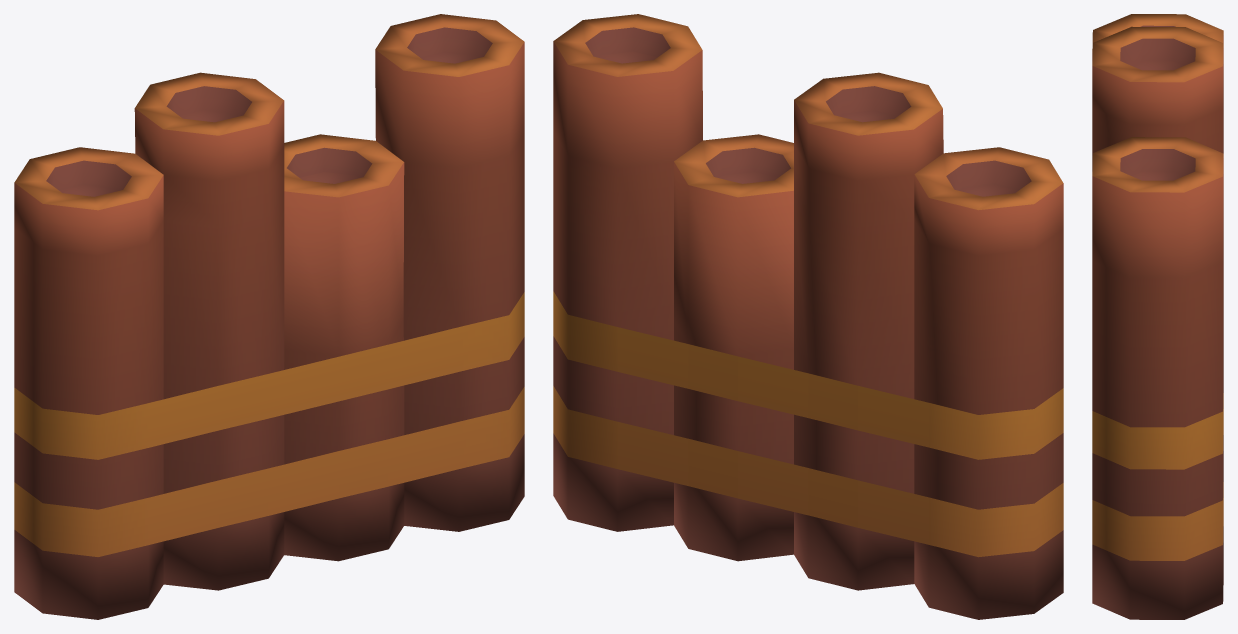
File: fence.gltf
The picture shows the model from 3 angles, left to right: view 1: azimuth 30°, elevation 25°; view 2: azimuth 150°, elevation 25°; view 3: azimuth 270°, elevation 25°; orthographic projection. The views are drawn at different scales.
Visible parts, largest first — view 1: Fence; view 2: Fence; view 3: Fence.
Part boxes in pixels (x1,y1,x2,y2): Fence: [14, 14, 524, 619]; Fence: [553, 14, 1063, 619]; Fence: [1092, 14, 1223, 619].
Size of the model in its own units: 1.11 by 1 by 0.2782.
Materials: 1 (1 with a texture image).
